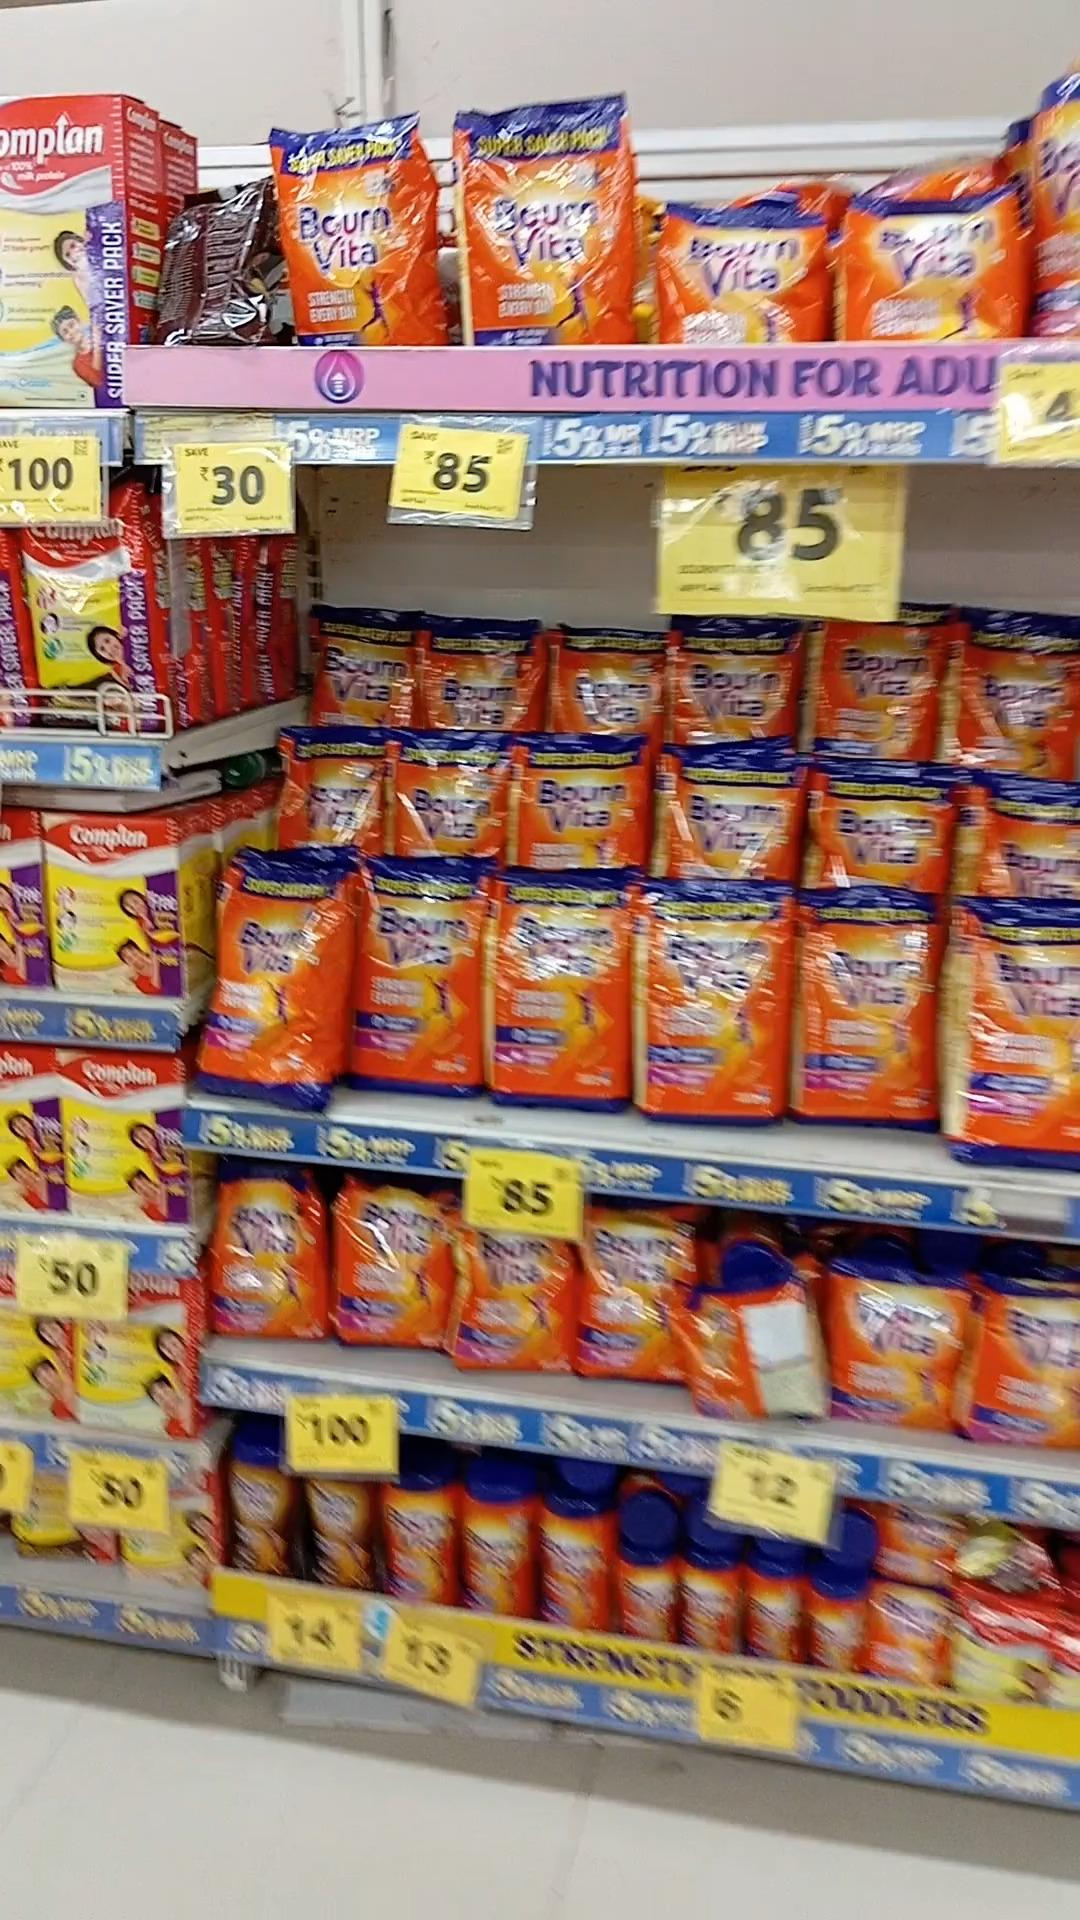BOURN_VITA_1_KG_POUCH: (456, 96, 637, 347), (277, 120, 448, 345), (487, 866, 637, 1114), (642, 880, 790, 1129), (949, 891, 1080, 1167), (212, 848, 344, 1118), (798, 890, 940, 1131), (347, 860, 481, 1096)
BOURN_VITA_500_G_POUCH: (334, 1171, 460, 1357), (585, 1195, 702, 1379), (831, 1263, 960, 1427), (210, 1160, 327, 1335), (467, 1228, 580, 1373)
COMPLAN_KESAR_BADAM_500_GMS_PACK: (49, 806, 185, 992), (66, 1044, 191, 1225)
COMPLAN_RC_POUCH_700_GMS_12: (30, 509, 166, 725)
